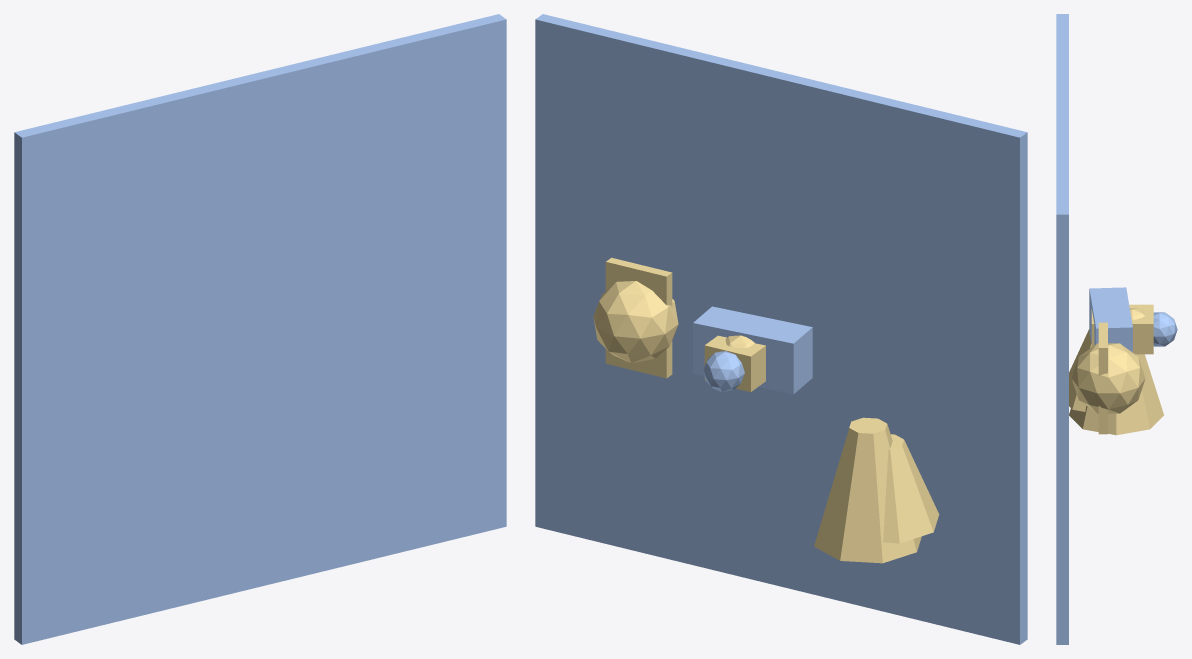
The model's file is hex-tactics-kit.glb.
The picture shows the model from 3 angles, left to right: view 1: azimuth 30°, elevation 25°; view 2: azimuth 150°, elevation 25°; view 3: azimuth 270°, elevation 25°; orthographic projection. The views are drawn at different scales.
Parts seen in each view (by area): view 1: ENVIRONMENT_GROUND; view 2: ENVIRONMENT_GROUND, PROFILE_ENVIRONMENT_DETAIL, PLAYER_BODY, OBSTACLE, ENVIRONMENT_LANDMARK, PROFILE_OBSTACLE_DETAIL, PROFILE_PLAYER_DETAIL, PROFILE_PLAYER_HEAD; view 3: ENVIRONMENT_GROUND, OBSTACLE, PROFILE_ENVIRONMENT_DETAIL, PLAYER_BODY, PROFILE_PLAYER_DETAIL, PROFILE_OBSTACLE_DETAIL, PROFILE_PLAYER_HEAD, ENVIRONMENT_LANDMARK.
Boxes of the visible parts, x1,y1,x2,y2 form: ENVIRONMENT_GROUND: [14, 14, 506, 644]; ENVIRONMENT_GROUND: [535, 14, 1027, 644]; PROFILE_ENVIRONMENT_DETAIL: [814, 417, 921, 563]; PLAYER_BODY: [693, 306, 812, 394]; OBSTACLE: [593, 281, 678, 363]; ENVIRONMENT_LANDMARK: [883, 434, 939, 543]; PROFILE_OBSTACLE_DETAIL: [605, 257, 672, 378]; PROFILE_PLAYER_DETAIL: [704, 335, 765, 392]; PROFILE_PLAYER_HEAD: [703, 351, 744, 391]; ENVIRONMENT_GROUND: [1056, 14, 1068, 644]; OBSTACLE: [1071, 343, 1145, 413]; PROFILE_ENVIRONMENT_DETAIL: [1069, 354, 1163, 435]; PLAYER_BODY: [1089, 287, 1132, 352]; PROFILE_PLAYER_DETAIL: [1091, 304, 1153, 354]; PROFILE_OBSTACLE_DETAIL: [1098, 322, 1107, 434]; PROFILE_PLAYER_HEAD: [1153, 312, 1177, 346]; ENVIRONMENT_LANDMARK: [1069, 329, 1091, 411].
Size of what is drawn, in the model's own units: 9 by 9 by 2.3.
